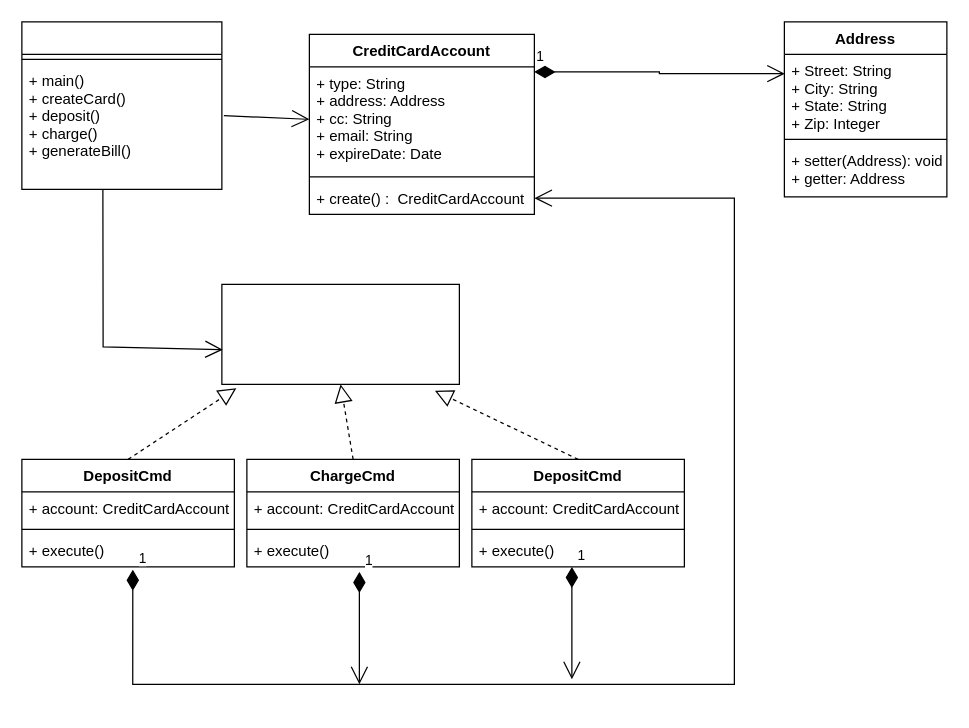
The diagram is 969 pixels wide and 728 high, and some of its shapes have lost their labels. Here are the shapes that lost their labels. From the top down, the box of each, then its label:
(21, 21, 222, 189): Client
(221, 283, 459, 384): <<Interface>> Command + execute()
